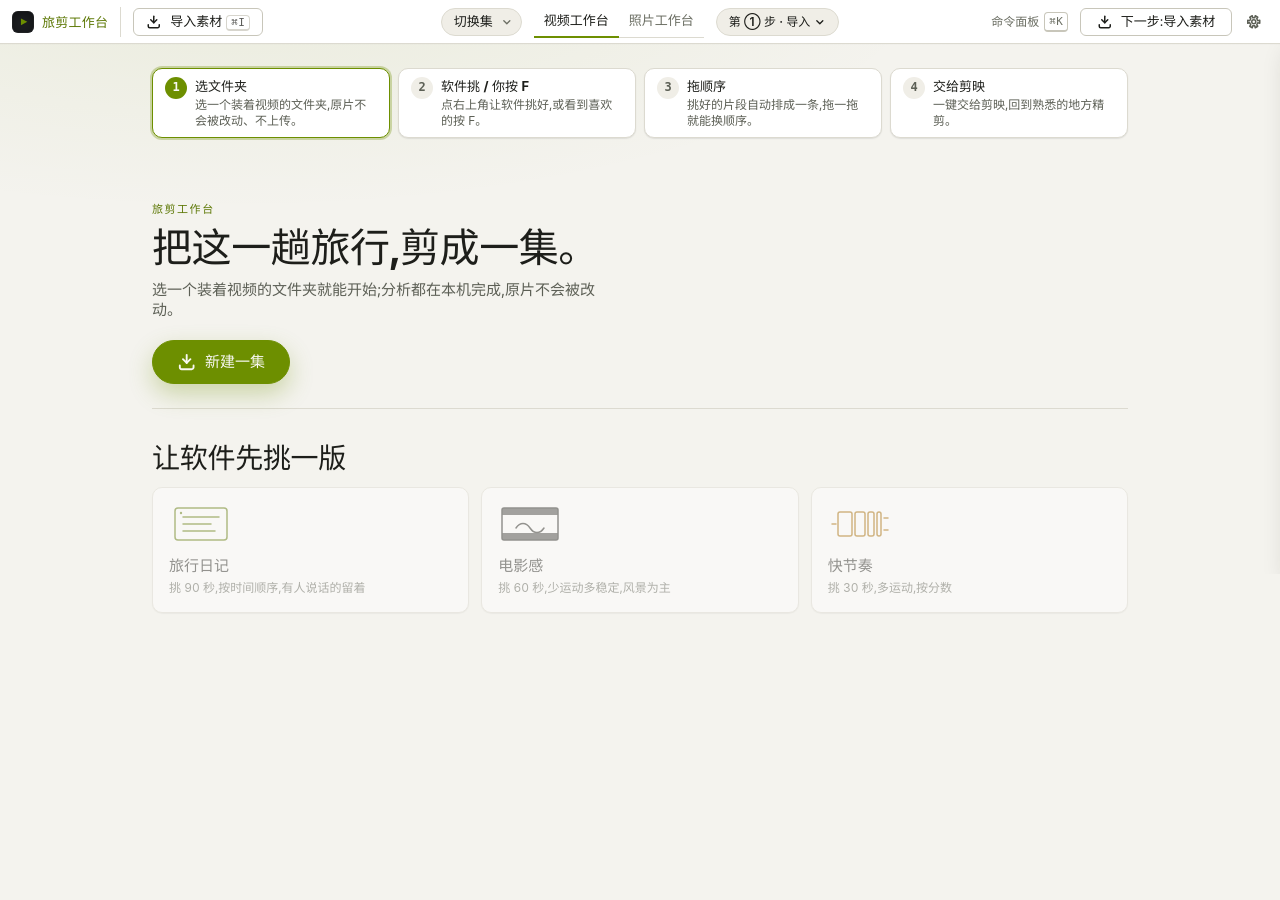
Scenario: R10 U-07:来源分页按钮三态与路径中间省略 › 关注文件夹与「最近添加」的路径拆成头 / 尾两段(中间省略),AX 名仍是整条路径
The width and height of the screenshot is (1280, 900).
What coordinates should you click on to do the following:
click the button "导入素材 ⌘I"
I would click on:
 (198, 22)
Its box is [133,8,263,36].
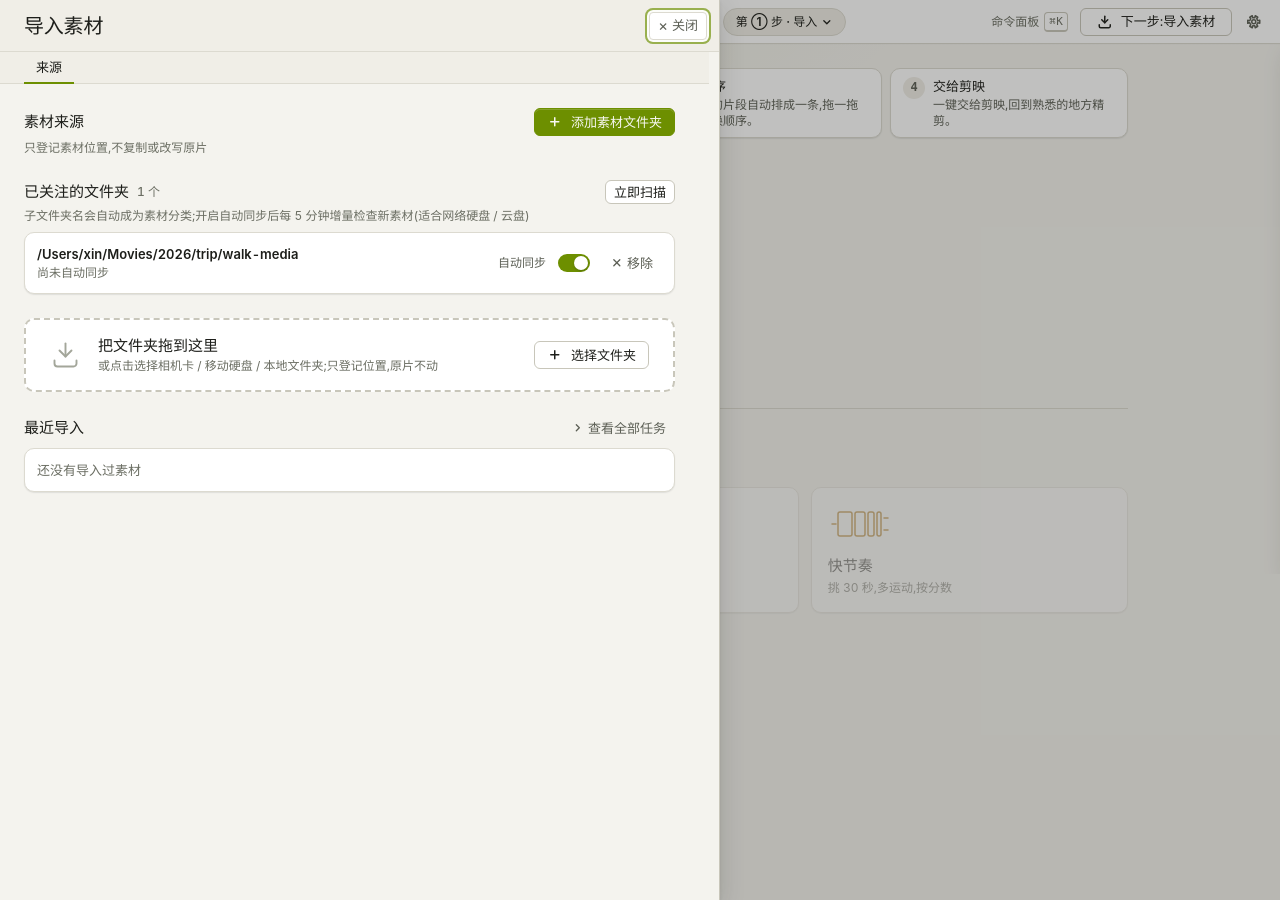
Expected: the text with class "import-path-head" reads "/Users/xin/Movies/2026/trip/", [37,246,222,262]
Expected: the text with class "import-path-tail" reads "walk-media", [222,246,298,262]
